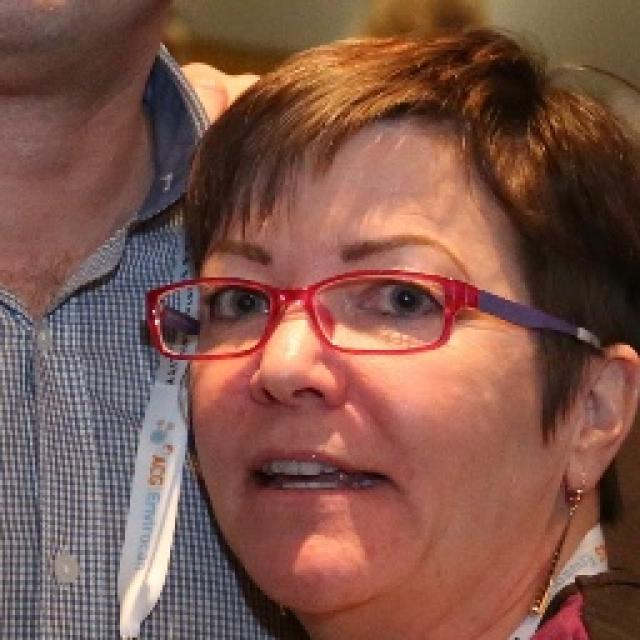earlobe: (562, 430, 620, 494)
eye: (362, 283, 442, 322), (202, 288, 270, 318)
nose: (248, 390, 344, 450)
wholeear: (563, 342, 640, 496)
